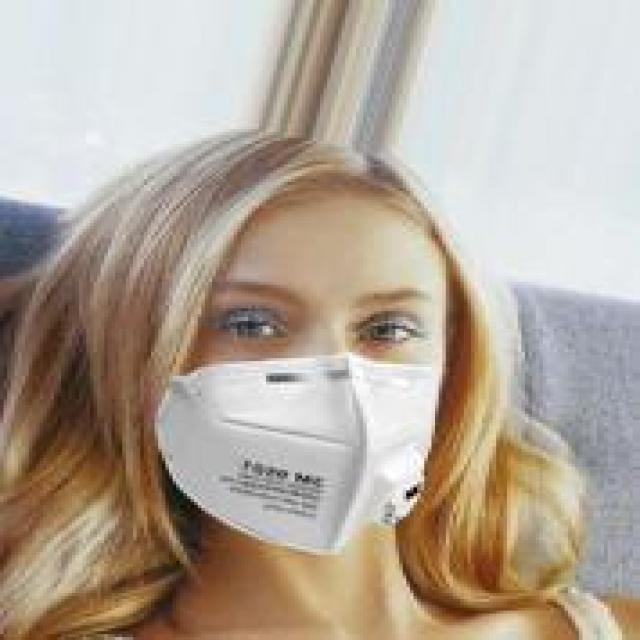mask: (144, 100, 554, 534)
